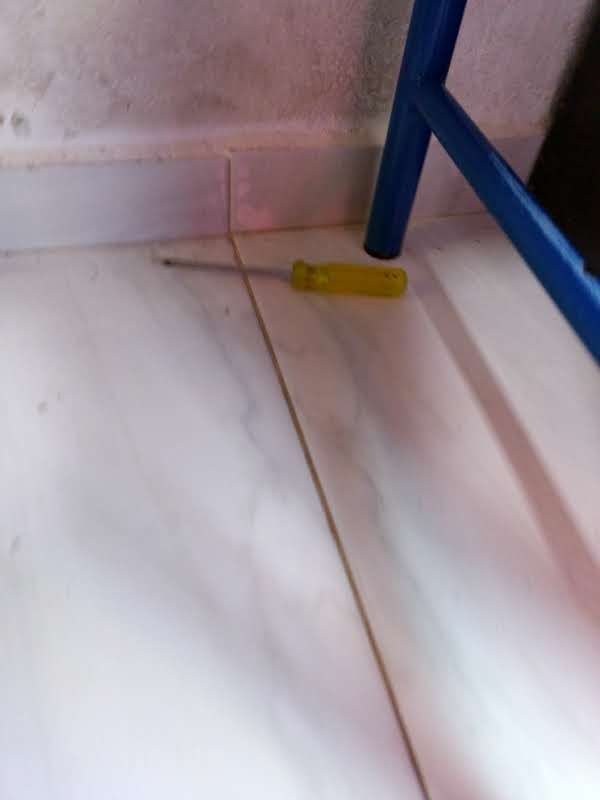Destornillador: (161, 258, 407, 298)
